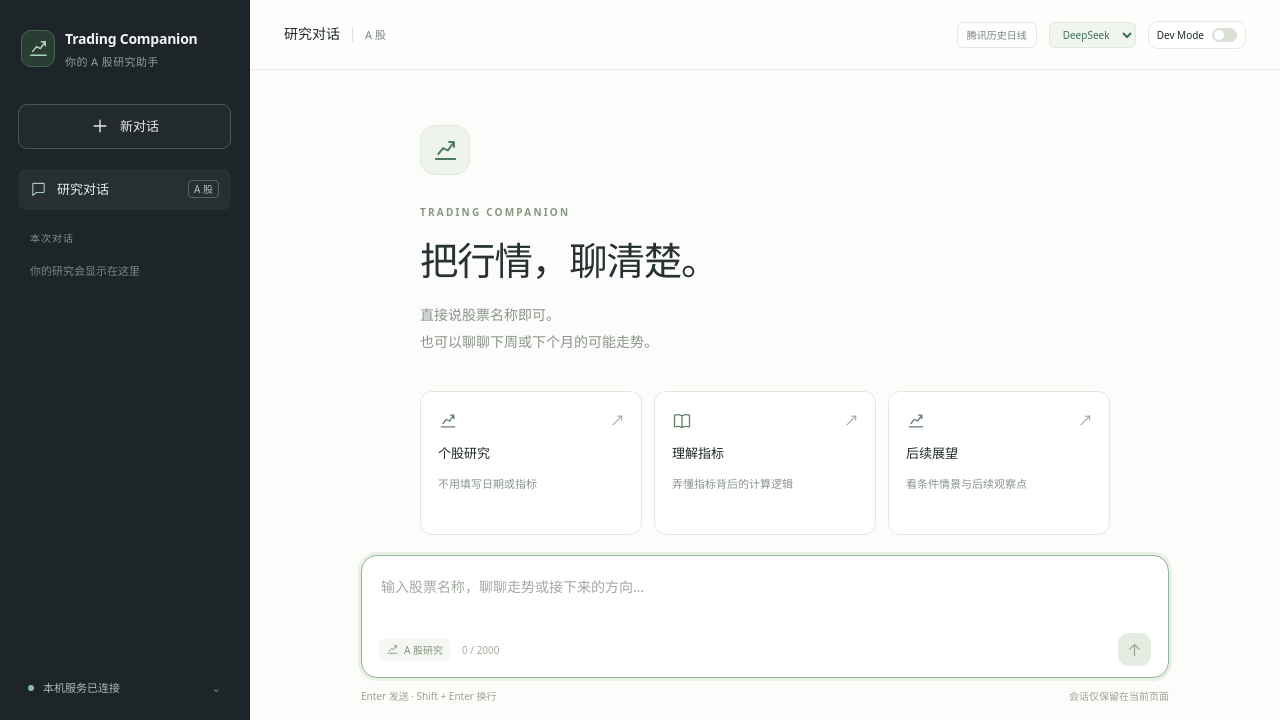
Test case: model choice in the chat header › keeps the draft and messages when cleanup fails
Expected: the dropdown named "研究模型" is shown, [1049,22,1136,48]
Type "研究平安银行" into the text box named "研究问题" at (765, 599), box [379,572,1151,626]
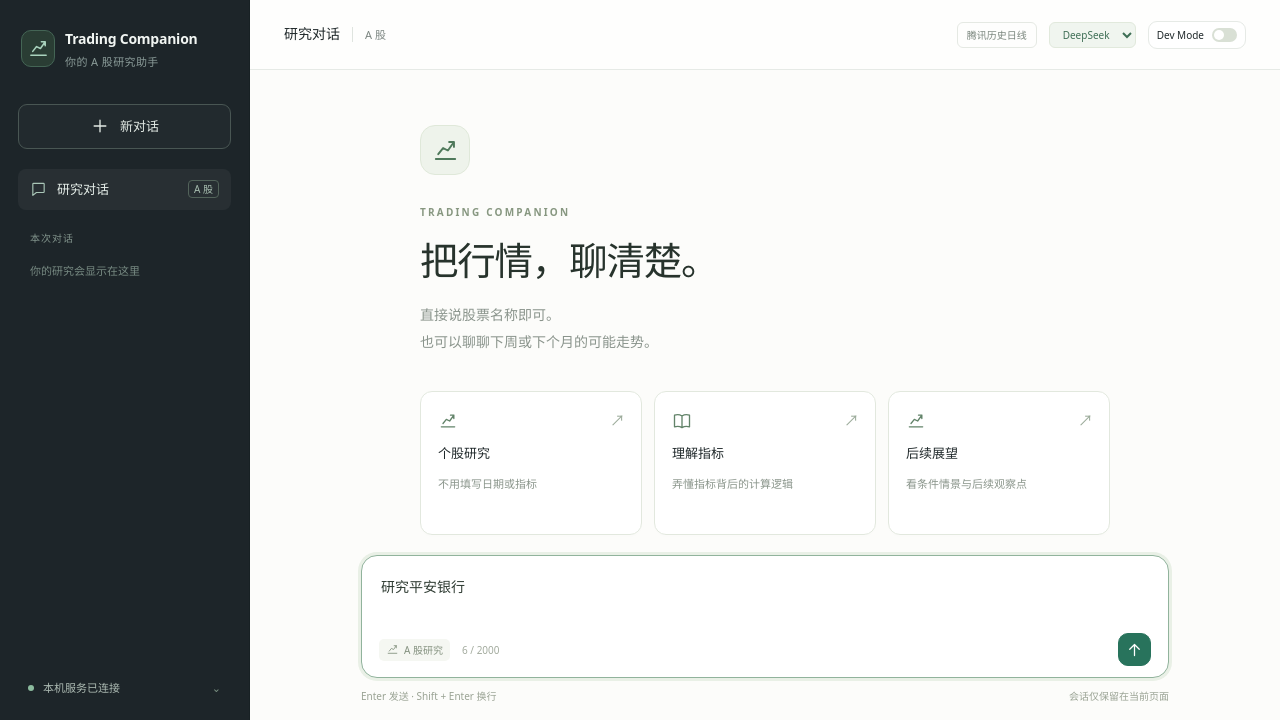
Click the button named "发送问题" at (1134, 650), box [1118,633,1151,666]
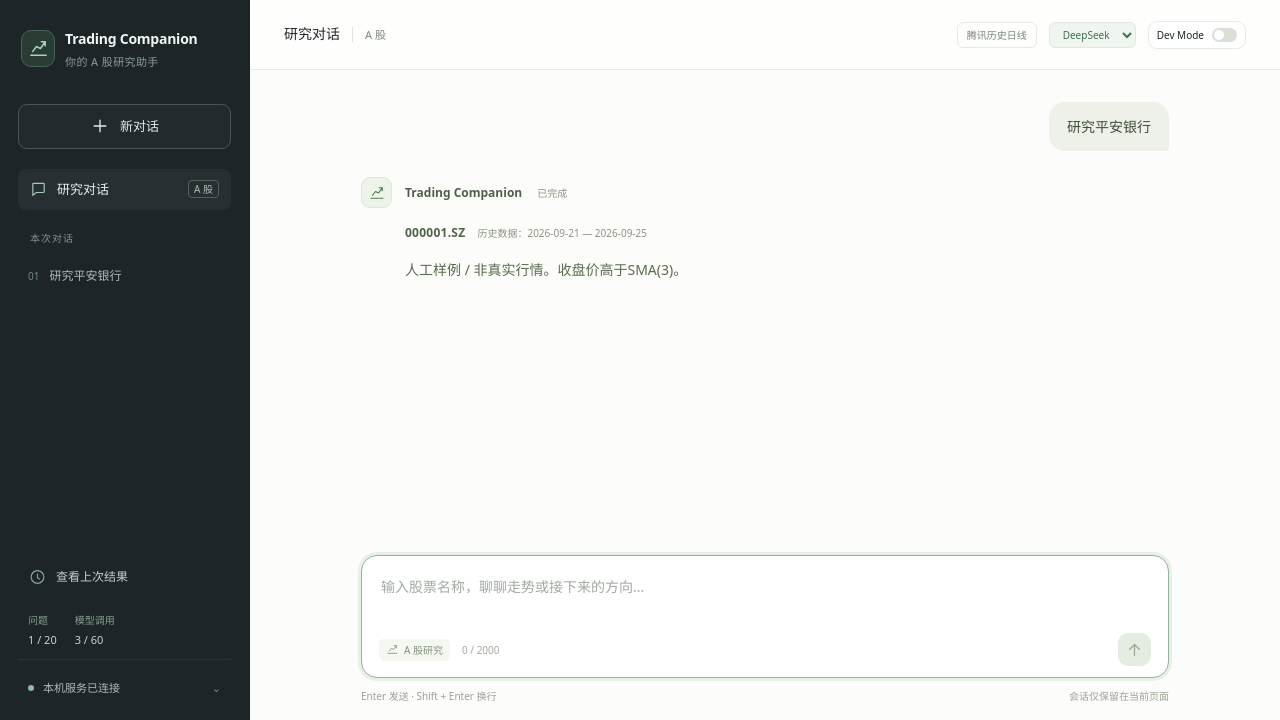
Now the text "人工样例 / 非真实行情。收盘价高于SMA(3)。" is shown, box [405,260,687,279]
Type "不能丢失的草稿" into the text box named "研究问题" at (765, 599), box [379,572,1151,626]
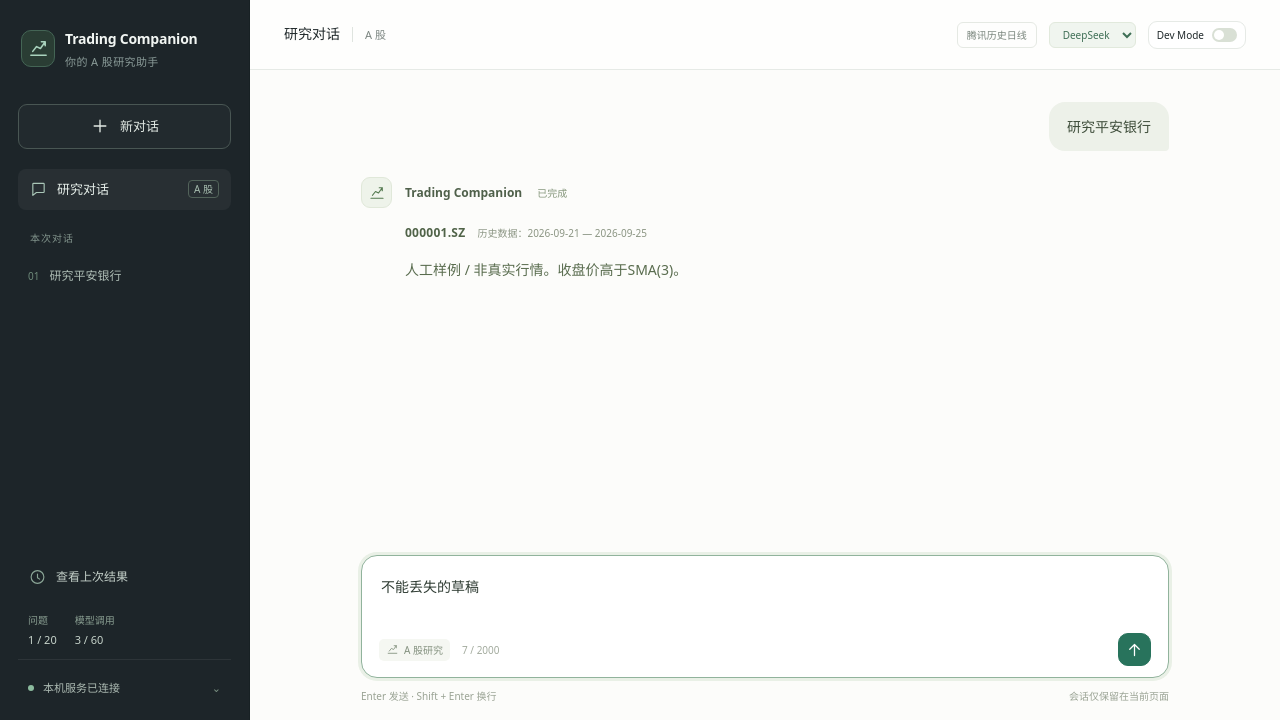
Select "OpenAI" in the dropdown named "研究模型" at (1092, 34), box [1049,22,1136,48]
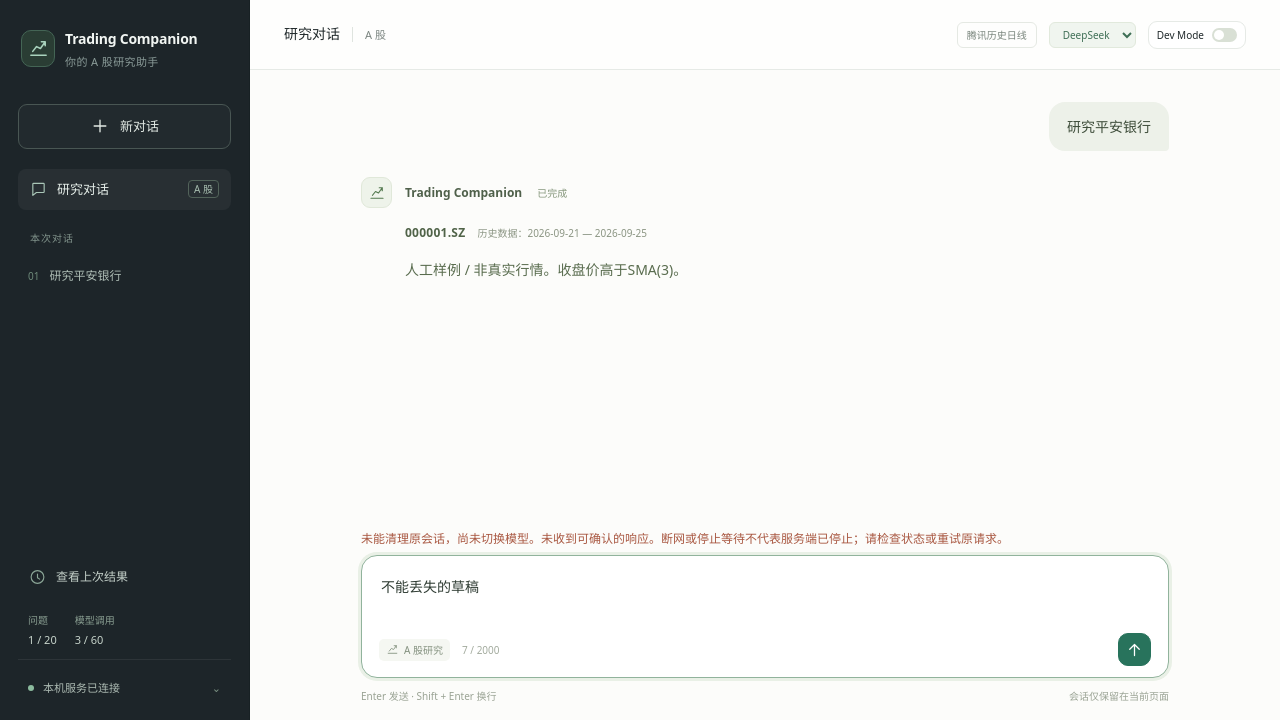
Now the text "人工样例 / 非真实行情。收盘价高于SMA(3)。" is shown, box [405,260,687,279]
Now the message shows "尚未切换模型", box [361,530,1009,547]
